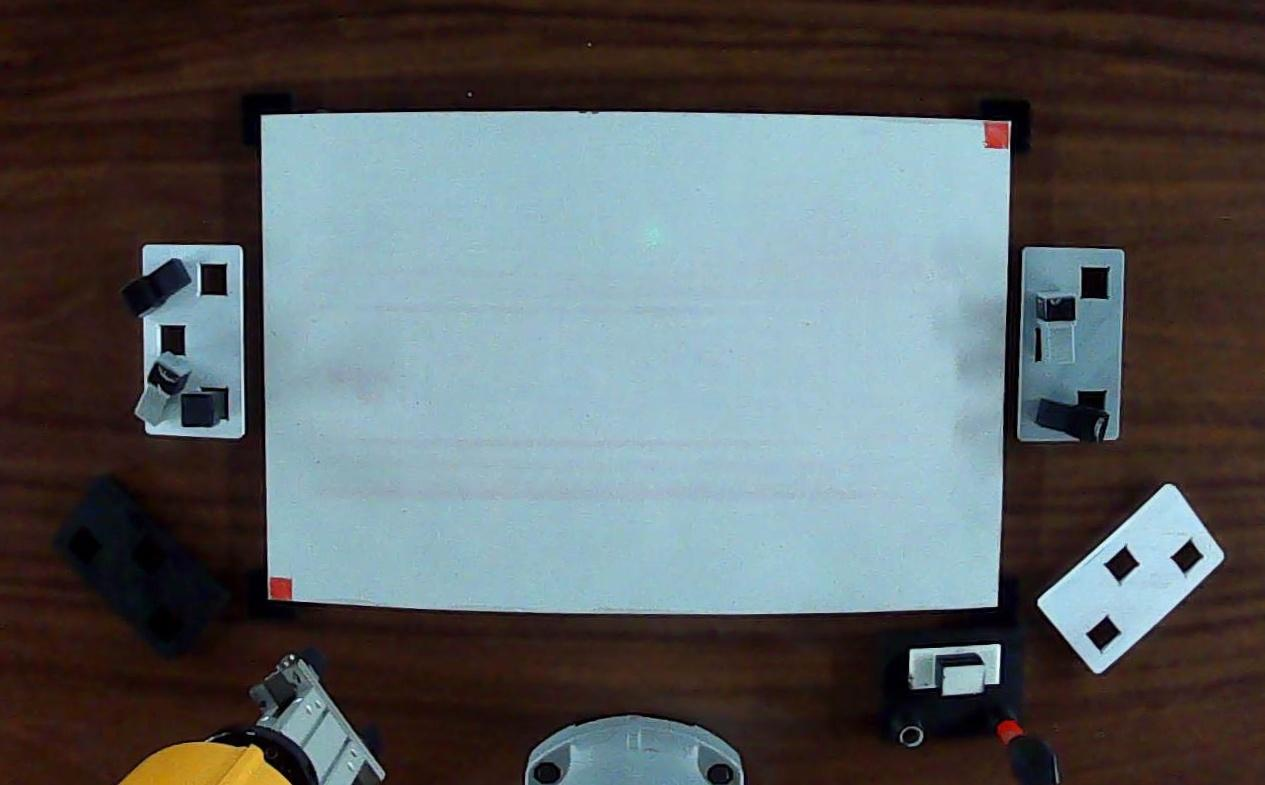pecaCinzaCaida: (128, 343, 203, 432), (1032, 288, 1081, 370)
pecaPreta: (176, 390, 224, 432)
pecaPretaCaida: (117, 249, 200, 321), (1027, 388, 1117, 453)
